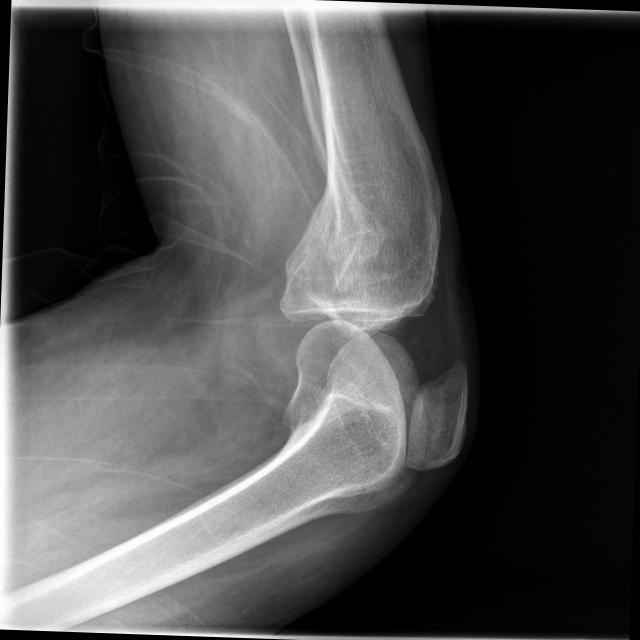Knee: (272, 218, 474, 476)
